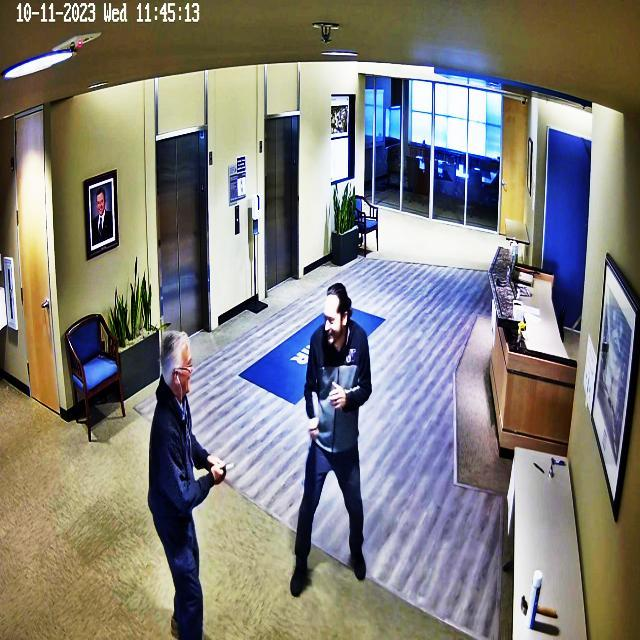Knife: (210, 449, 240, 485)
